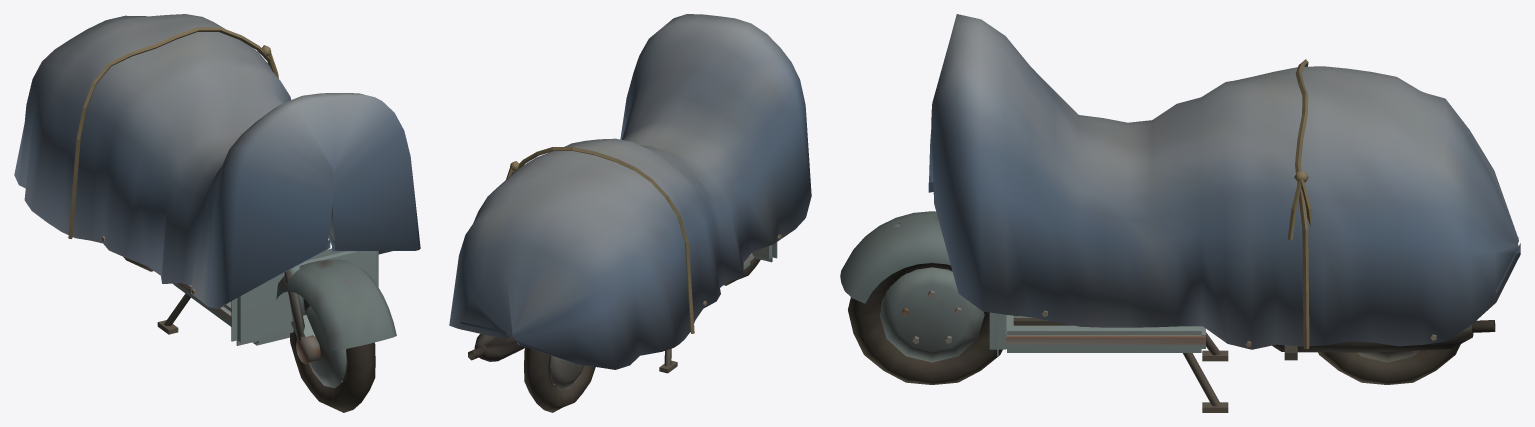
The model's file is scooter_covered_v2.glb.
The picture shows the model from 3 angles, left to right: view 1: azimuth 30°, elevation 25°; view 2: azimuth 150°, elevation 25°; view 3: azimuth 270°, elevation 25°; orthographic projection. The views are drawn at different scales.
Visible parts, largest first — view 1: hb_thatch, hb_metal, hb_main; view 2: hb_thatch, hb_main, hb_metal; view 3: hb_thatch, hb_metal, hb_main.
Part boxes in pixels (x1,y1,x2,y2): hb_thatch: (14, 14, 420, 308); hb_metal: (101, 236, 396, 388); hb_main: (68, 27, 375, 412); hb_thatch: (449, 14, 811, 369); hb_main: (506, 147, 760, 412); hb_metal: (468, 234, 781, 390); hb_thatch: (928, 14, 1520, 349); hb_metal: (840, 211, 1495, 406); hb_main: (848, 59, 1460, 412).
Size of the model in its own units: 0.8641 by 1.06 by 1.84.
